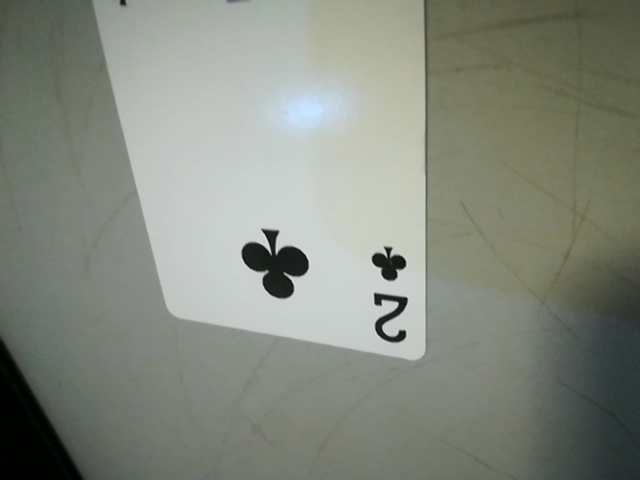mh 2: (361, 236, 426, 356)
